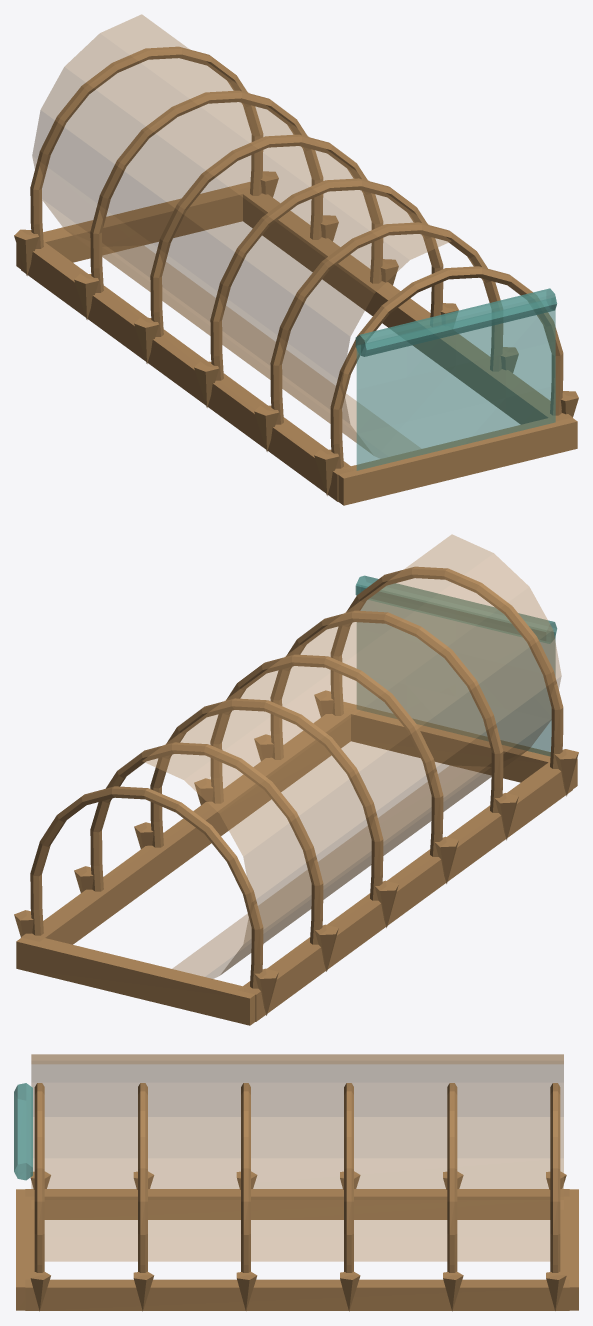
Rendered from crop-netting.source.glb.
The picture shows the model from 3 angles, top to bottom: view 1: azimuth 30°, elevation 25°; view 2: azimuth 150°, elevation 25°; view 3: azimuth 270°, elevation 25°; orthographic projection. The views are drawn at different scales.
Visible parts, largest first — view 1: crop-netting-faceted-net-canopy-mesh, crop-netting-six-hoop-frame-mesh (×6), crop-netting-front-net-panel-mesh, crop-netting-timber-curb-mesh (×2), crop-netting-timber-end-curb-mesh (×2), crop-netting-rolled-access-flap-mesh, crop-netting-ground-anchor-mesh (×6); view 2: crop-netting-faceted-net-canopy-mesh, crop-netting-six-hoop-frame-mesh (×6), crop-netting-timber-curb-mesh (×2), crop-netting-front-net-panel-mesh, crop-netting-timber-end-curb-mesh (×2), crop-netting-rolled-access-flap-mesh; view 3: crop-netting-faceted-net-canopy-mesh, crop-netting-timber-curb-mesh (×2), crop-netting-six-hoop-frame-mesh (×6), crop-netting-timber-end-curb-mesh (×2), crop-netting-ground-anchor-mesh (×6), crop-netting-rolled-access-flap-mesh.
Part boxes in pixels (box(x1,y1,x2,y2)): crop-netting-faceted-net-canopy-mesh: box(32, 14, 451, 458); crop-netting-six-hoop-frame-mesh (×6): box(30, 46, 563, 468); crop-netting-front-net-panel-mesh: box(356, 298, 555, 470); crop-netting-timber-curb-mesh (×2): box(21, 187, 572, 501); crop-netting-timber-end-curb-mesh (×2): box(16, 182, 577, 505); crop-netting-rolled-access-flap-mesh: box(355, 288, 557, 356); crop-netting-ground-anchor-mesh (×6): box(14, 229, 339, 495); crop-netting-faceted-net-canopy-mesh: box(142, 534, 561, 978); crop-netting-six-hoop-frame-mesh (×6): box(30, 566, 563, 988); crop-netting-timber-curb-mesh (×2): box(21, 707, 572, 1021); crop-netting-front-net-panel-mesh: box(357, 585, 555, 756); crop-netting-timber-end-curb-mesh (×2): box(16, 702, 577, 1025); crop-netting-rolled-access-flap-mesh: box(355, 575, 557, 643); crop-netting-faceted-net-canopy-mesh: box(31, 1054, 563, 1261); crop-netting-timber-curb-mesh (×2): box(25, 1189, 569, 1310); crop-netting-six-hoop-frame-mesh (×6): box(34, 1083, 560, 1272); crop-netting-timber-end-curb-mesh (×2): box(16, 1189, 578, 1310); crop-netting-ground-anchor-mesh (×6): box(30, 1271, 566, 1311); crop-netting-rolled-access-flap-mesh: box(14, 1083, 32, 1180).
Bounding box in the file's own units: 1.81 × 1.52 × 3.94.
